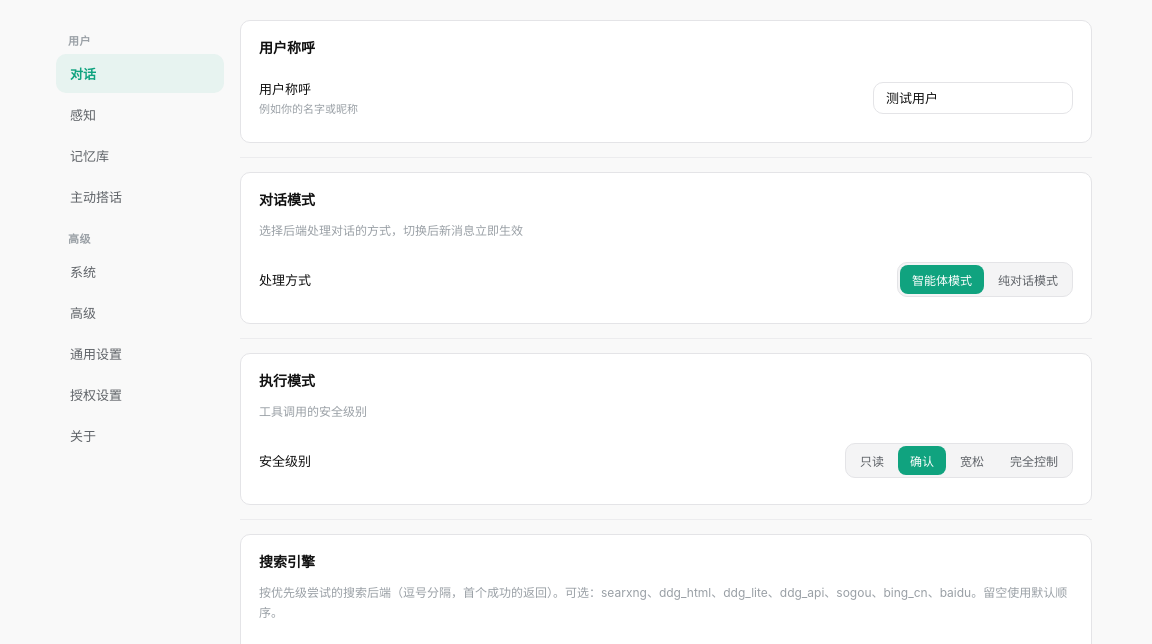
Scenario: 通用设置：切换界面语言后渲染随之变化
切到通用设置 tab
Click the text with class "settings-tab" showing "通用设置" at (96,354), box [70, 346, 122, 362]
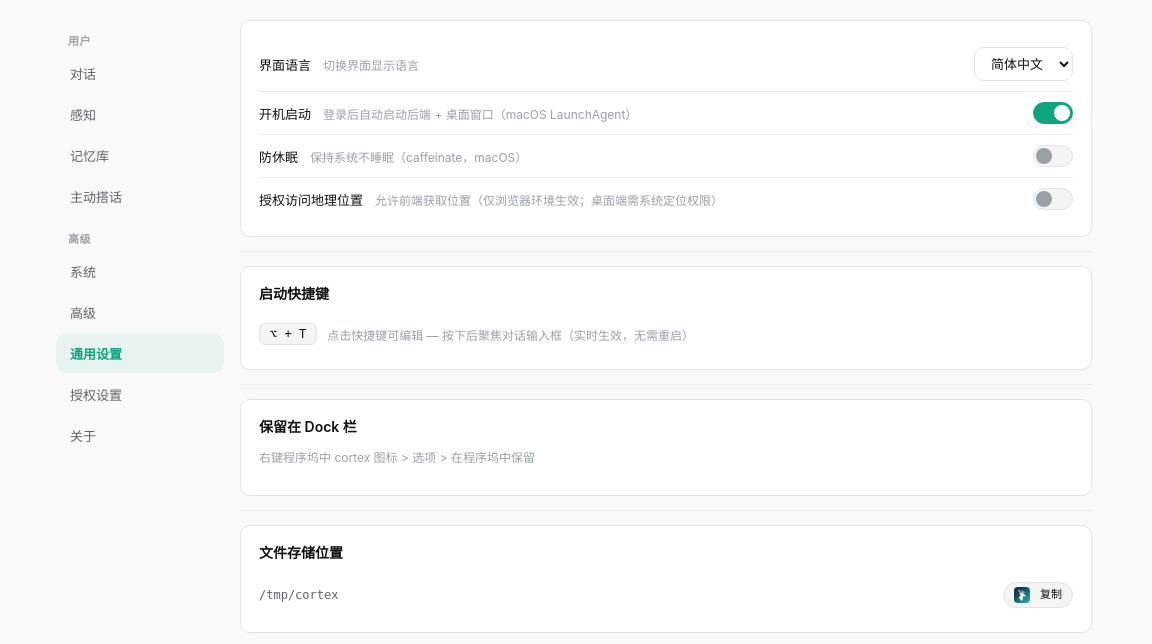
Now the dropdown with class "settings-lang-select" is shown
Now the text with class "settings-row-label" reads "界面语言", box [259, 56, 311, 72]
Select "English" in the dropdown with class "settings-lang-select" at (1024,64), box [974, 47, 1073, 81]
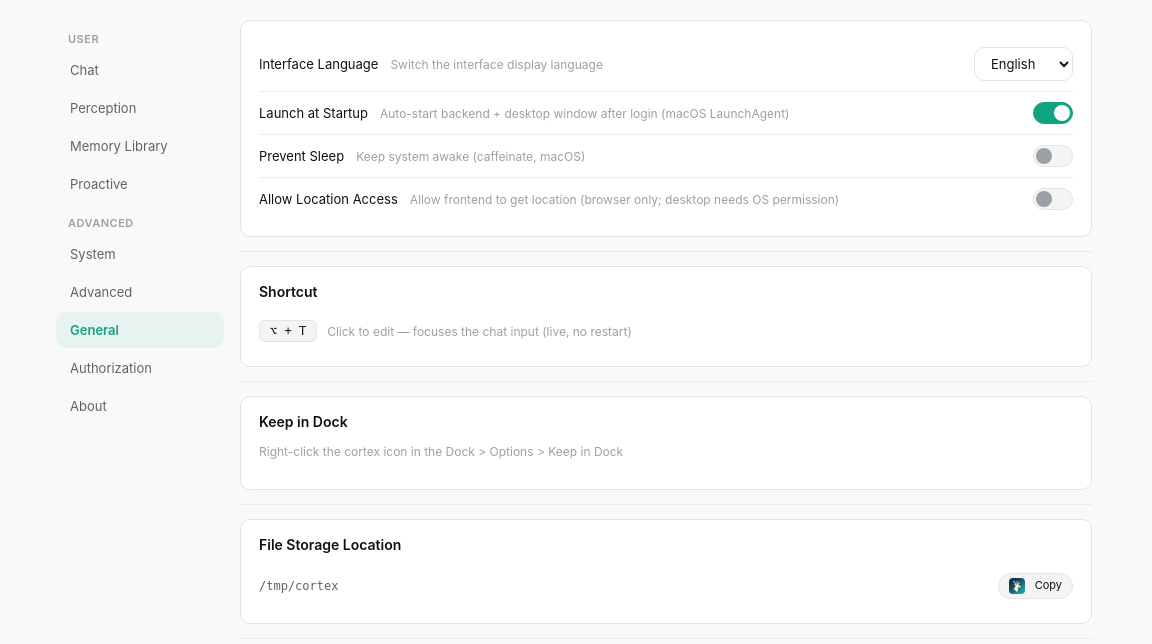
Now the text with class "settings-row-label" reads "Interface Language", box [259, 56, 378, 72]
